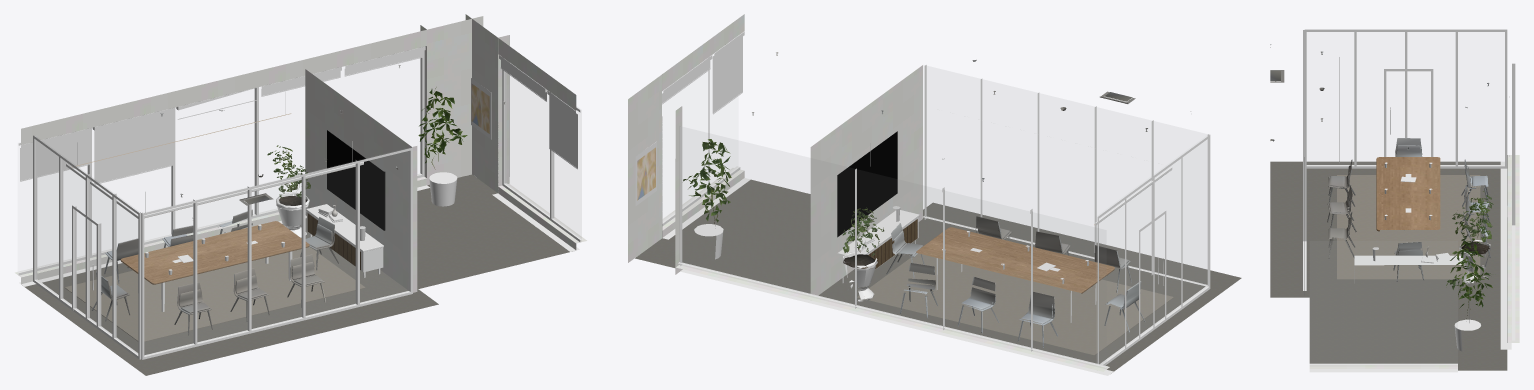
The model's file is z-open_n-lite.light.32115dc0.glb.
3 renders of one model, left to right at view 1: azimuth 30°, elevation 25°; view 2: azimuth 150°, elevation 25°; view 3: azimuth 270°, elevation 25°, orthographic. The views are drawn at different scales.
Visible parts, largest first — view 1: open_n_plaster, open_n_carpet, open_n_satin, open_n_glass, open_n_fx, open_n_oak, open_n_emit, open_n_veg_atlas, open_n_metal_lit, open_n_art, open_n_proxy_cab; view 2: open_n_carpet, open_n_plaster, open_n_glass, open_n_satin, open_n_fx, open_n_oak, open_n_emit, open_n_veg_atlas, open_n_metal_lit, open_n_art, open_n_proxy_cab; view 3: open_n_carpet, open_n_satin, open_n_oak, open_n_fx, open_n_plaster, open_n_veg_atlas, open_n_metal_lit.
Boxes of the visible parts, bbox=[...] form: open_n_plaster: bbox=[15, 14, 586, 292]; open_n_carpet: bbox=[22, 174, 575, 375]; open_n_satin: bbox=[17, 46, 582, 359]; open_n_glass: bbox=[37, 168, 304, 267]; open_n_fx: bbox=[92, 65, 505, 335]; open_n_oak: bbox=[120, 221, 309, 284]; open_n_emit: bbox=[71, 113, 385, 230]; open_n_veg_atlas: bbox=[267, 87, 467, 205]; open_n_metal_lit: bbox=[24, 78, 570, 311]; open_n_art: bbox=[471, 83, 489, 133]; open_n_proxy_cab: bbox=[307, 213, 360, 269]; open_n_carpet: bbox=[635, 179, 1241, 373]; open_n_plaster: bbox=[628, 14, 1109, 371]; open_n_glass: bbox=[682, 127, 1207, 364]; open_n_satin: bbox=[662, 31, 1210, 375]; open_n_fx: bbox=[752, 52, 1190, 347]; open_n_oak: bbox=[916, 227, 1114, 293]; open_n_emit: bbox=[837, 131, 1095, 237]; open_n_veg_atlas: bbox=[683, 139, 884, 267]; open_n_metal_lit: bbox=[635, 141, 1163, 371]; open_n_art: bbox=[637, 147, 655, 200]; open_n_proxy_cab: bbox=[861, 219, 917, 269]; open_n_carpet: bbox=[1270, 161, 1507, 370]; open_n_satin: bbox=[1303, 29, 1515, 372]; open_n_oak: bbox=[1376, 157, 1440, 231]; open_n_fx: bbox=[1270, 44, 1490, 281]; open_n_plaster: bbox=[1304, 155, 1519, 368]; open_n_veg_atlas: bbox=[1446, 191, 1493, 318]; open_n_metal_lit: bbox=[1390, 107, 1501, 349].
Size of the model in its own units: 10.25 by 3.3 by 5.05.
Materials: 13 (7 with a texture image).
